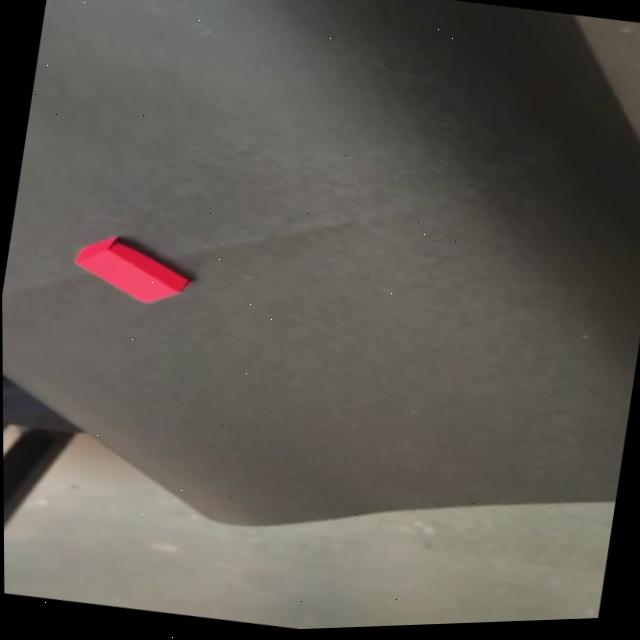red block: (68, 228, 199, 315)
